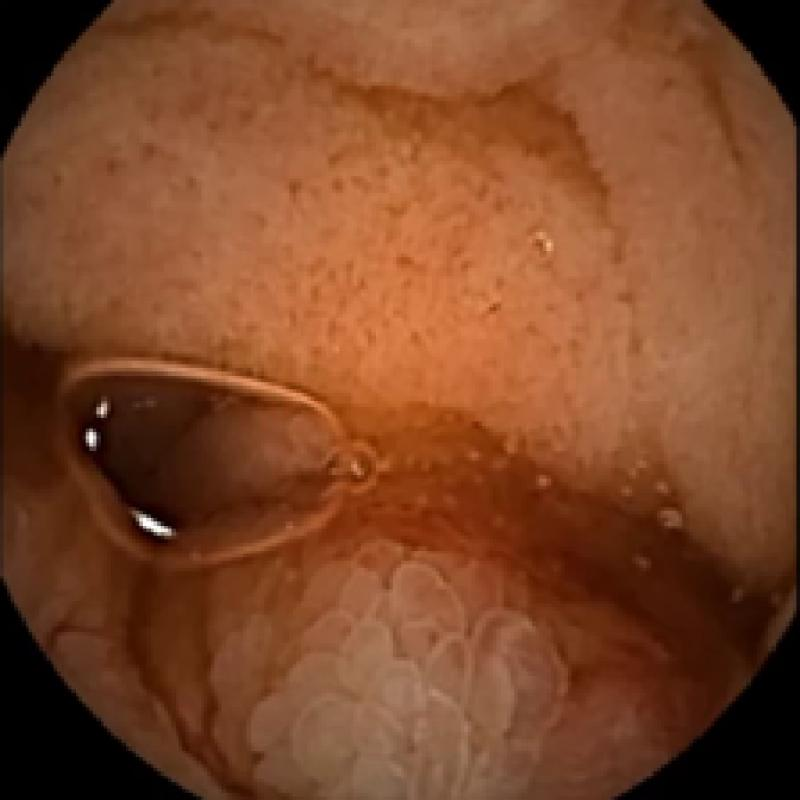bleeding: (79, 393, 775, 761)
